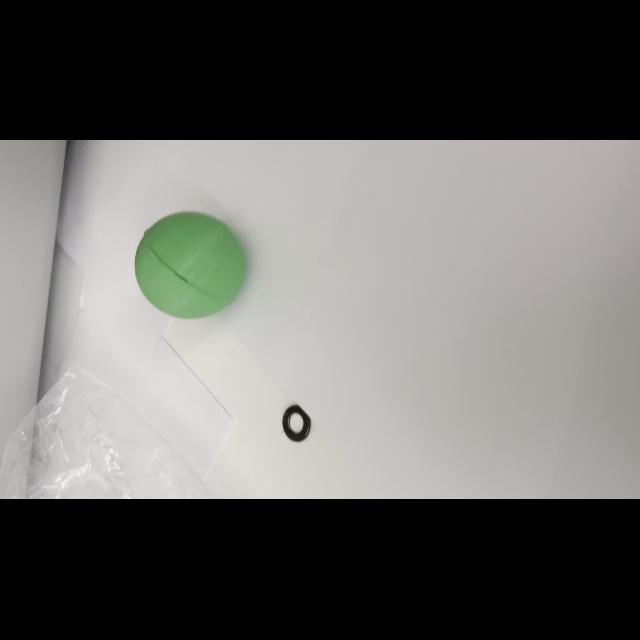objects: (132, 206, 252, 322)
